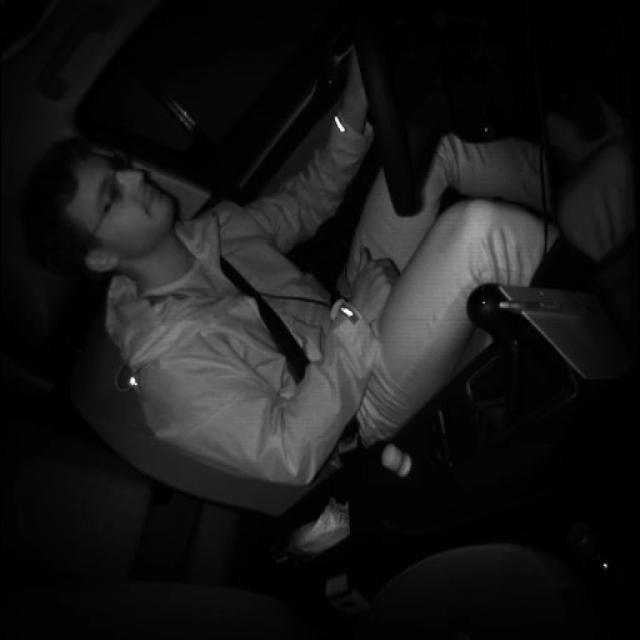pen: (498, 300, 592, 314)
